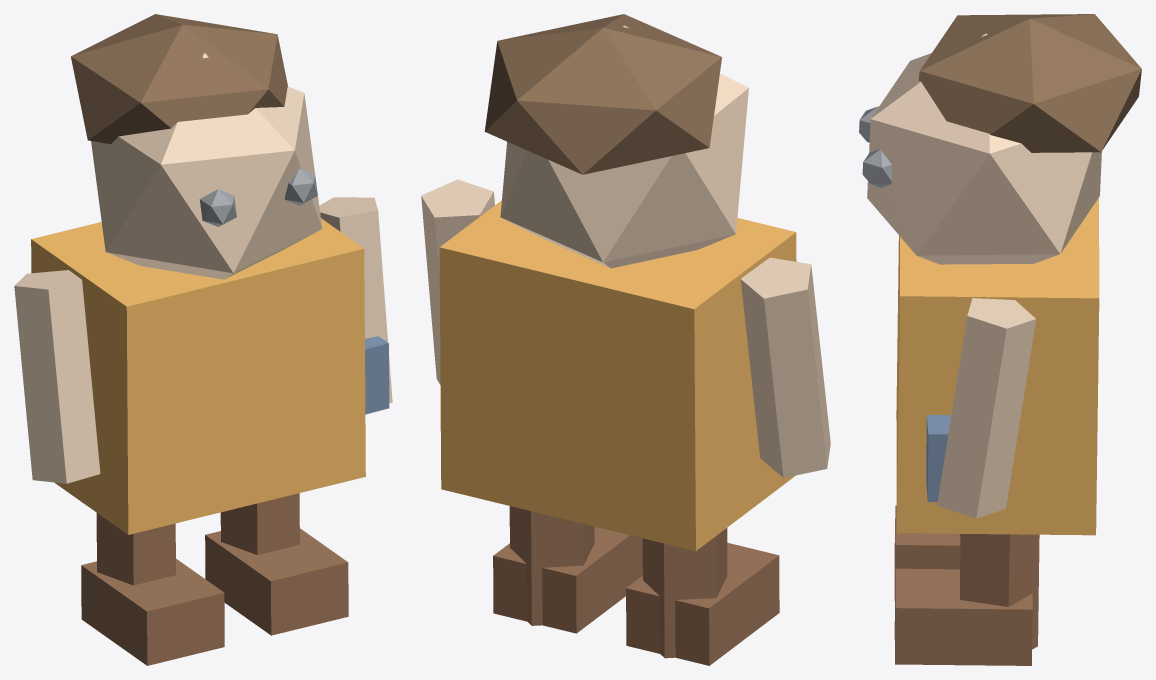
File: npcpose_villager_idle_11.glb
3 renders of one model, left to right at view 1: azimuth 30°, elevation 25°; view 2: azimuth 150°, elevation 25°; view 3: azimuth 270°, elevation 25°, orthographic. The views are drawn at different scales.
Visible parts, largest first — view 1: npcpose; view 2: npcpose; view 3: npcpose.
Part boxes in pixels (left/top/right/bottom): npcpose: left=14, top=14, right=392, bottom=665; npcpose: left=421, top=14, right=830, bottom=665; npcpose: left=859, top=14, right=1141, bottom=665.
Bounding box in the file's own units: 0.6978 × 1.06 × 0.4545.
